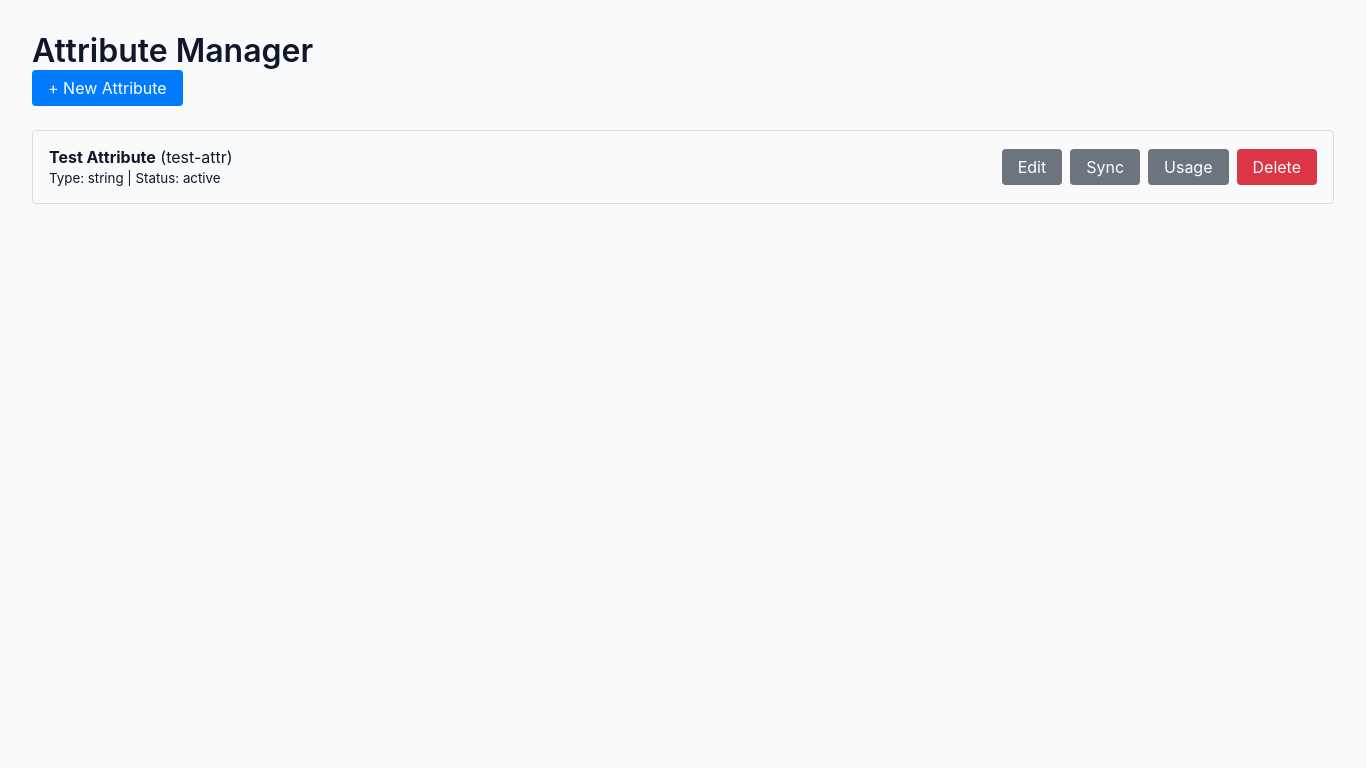
it: AttributeManager Save Error Display (LP-3.0.1) › should display validation details when present
// Open edit modal
What coordinates should you click on to do the following:
click the button "Edit"
I would click on:
 (1032, 167)
Its box is top-left (1002, 149), bottom-right (1062, 185).
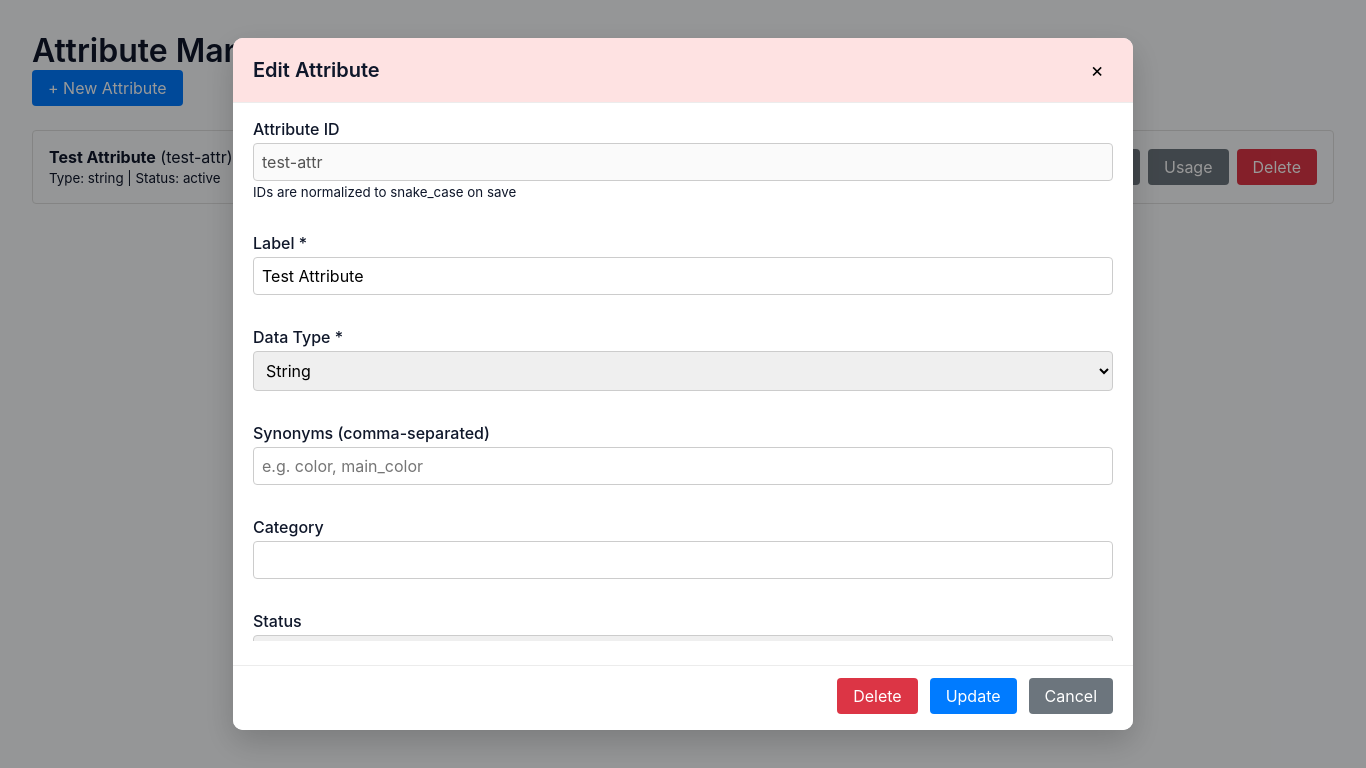
Expected: the dialog is shown
// Click update
What coordinates should you click on to do the following:
click the button "Update"
I would click on:
 (973, 696)
Its box is top-left (930, 678), bottom-right (1016, 714).
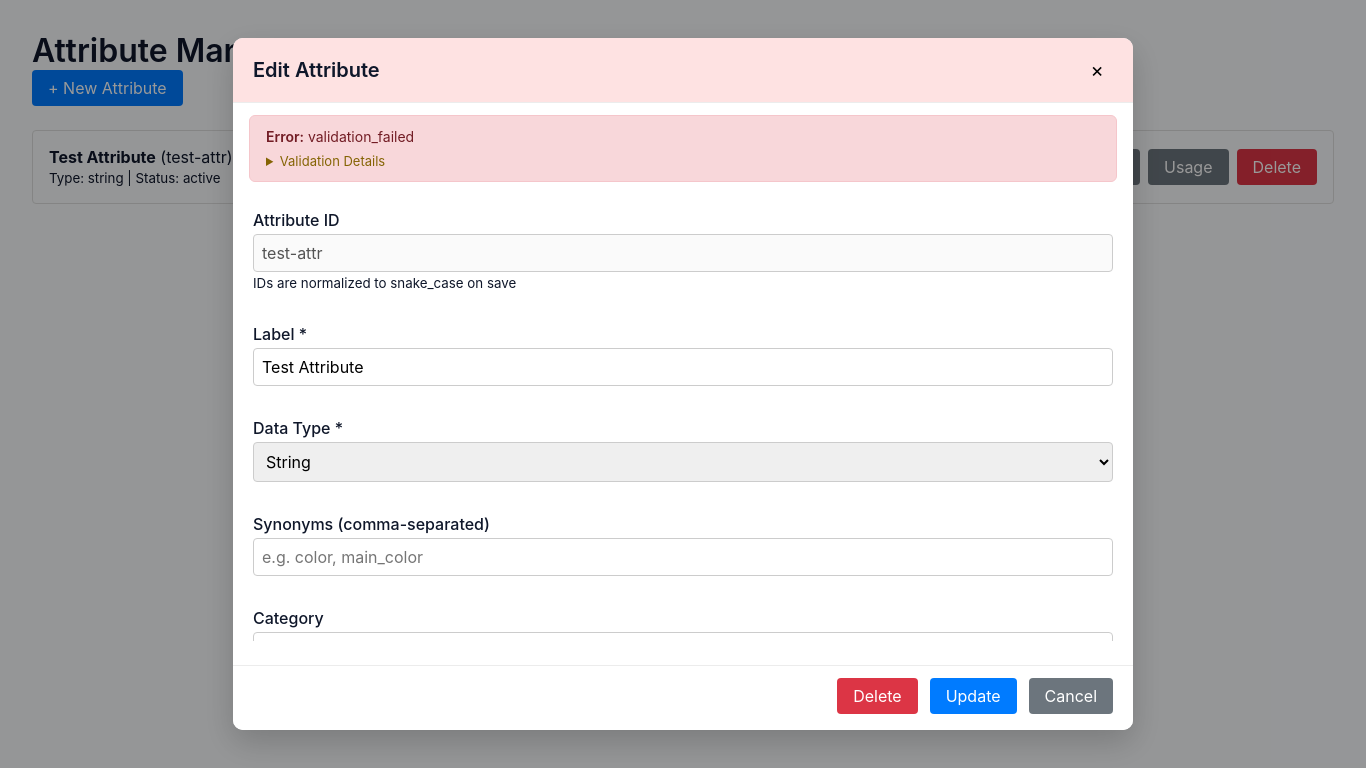
Expected: the heading "Validation Details" is shown
// Click to expand details
What coordinates should you click on to do the following:
click the heading "Validation Details"
I would click on:
 (332, 161)
Its box is top-left (280, 153), bottom-right (385, 169).
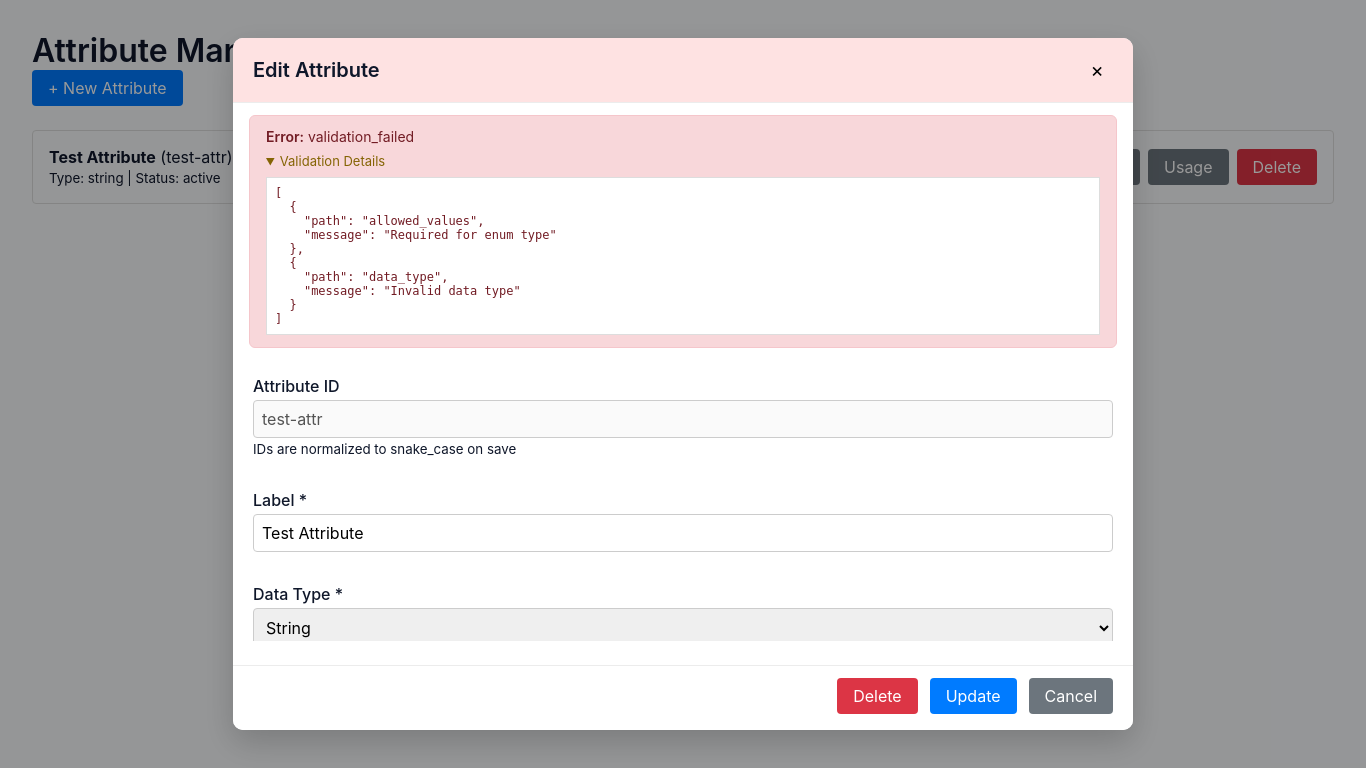
Expected: the text "Required for enum type" is shown, top-left (275, 186), bottom-right (557, 326)
